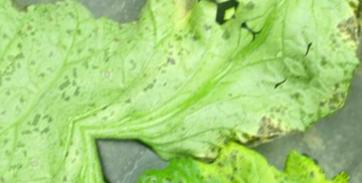Tomato leaf bacterial spot: (119, 67, 339, 183)
